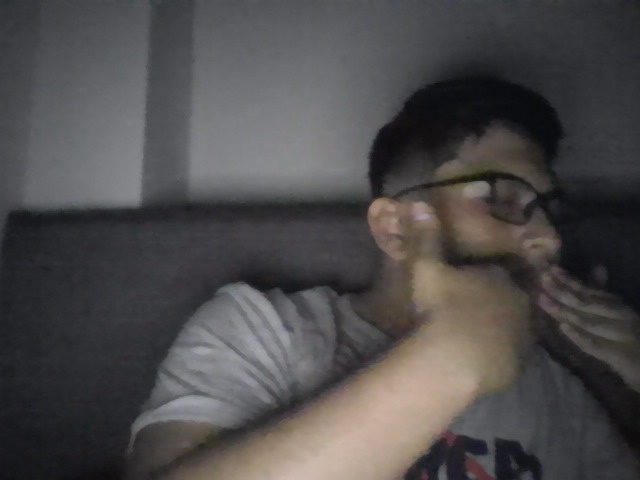Thanks: (377, 191, 640, 421)
